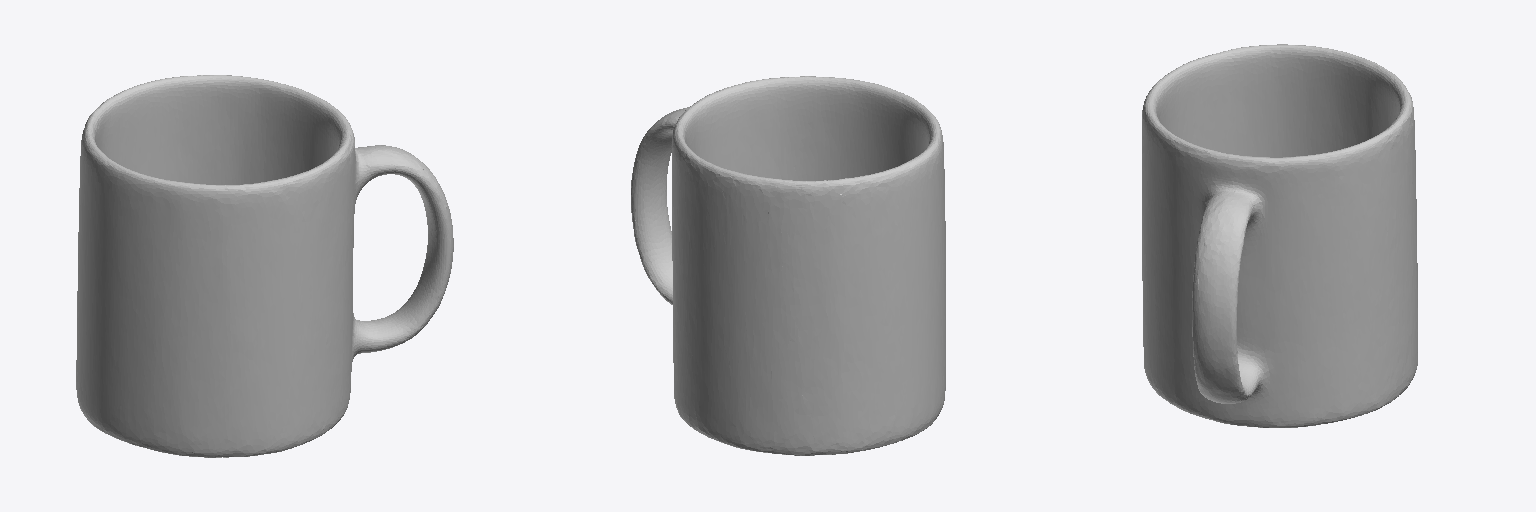
Rendered from Hy21_Glass_Mesh5_final.obj.
3 renders of one model, left to right at view 1: azimuth 30°, elevation 25°; view 2: azimuth 150°, elevation 25°; view 3: azimuth 270°, elevation 25°, orthographic.
Bounding box in the file's own units: 1.94 × 1.58 × 1.44.